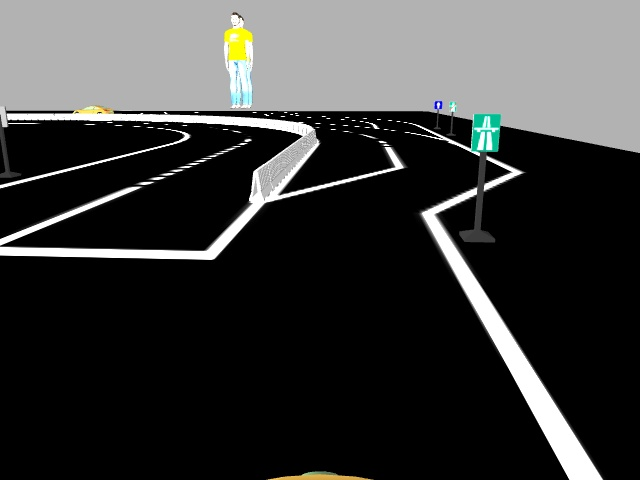HighwayEntrance: (470, 110, 499, 152)
